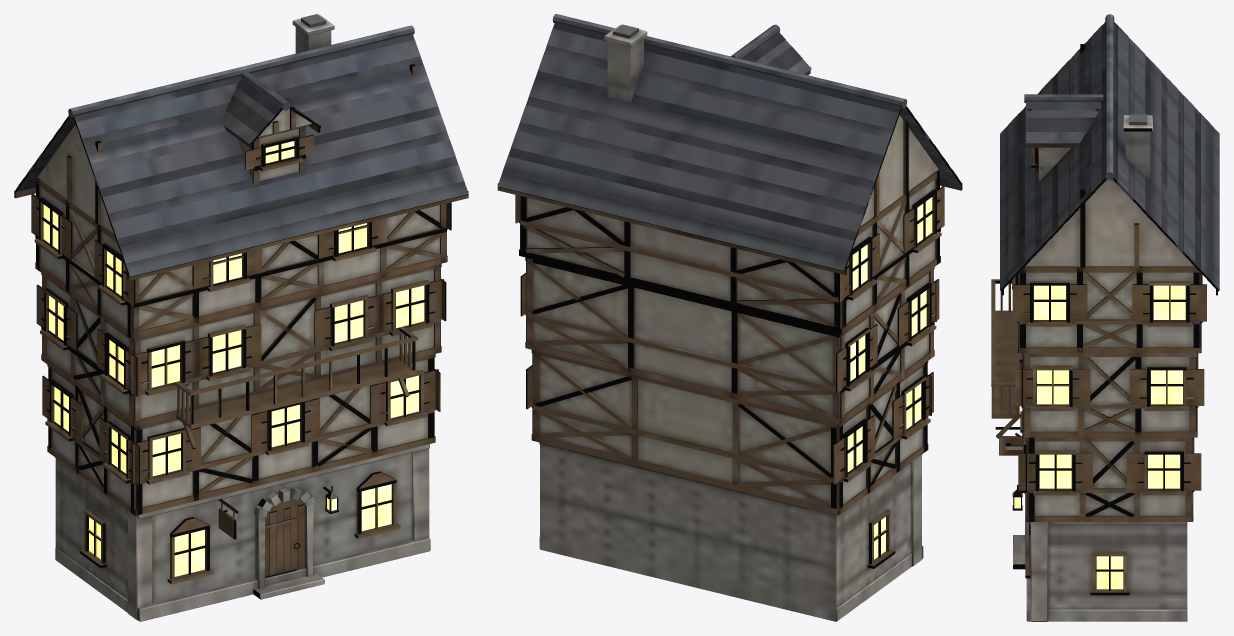
The model's file is hospedaria.glb.
3 renders of one model, left to right at view 1: azimuth 30°, elevation 25°; view 2: azimuth 150°, elevation 25°; view 3: azimuth 270°, elevation 25°, orthographic. The views are drawn at different scales.
Visible parts, largest first — view 1: hospedaria; view 2: hospedaria; view 3: hospedaria.
Part boxes in pixels (<box>): hospedaria: <box>14,14,468,621</box>; hospedaria: <box>497,14,962,621</box>; hospedaria: <box>991,14,1219,621</box>.
Size of the model in its own units: 10.62 by 14.94 by 6.49.
1 material, 1 textured.
